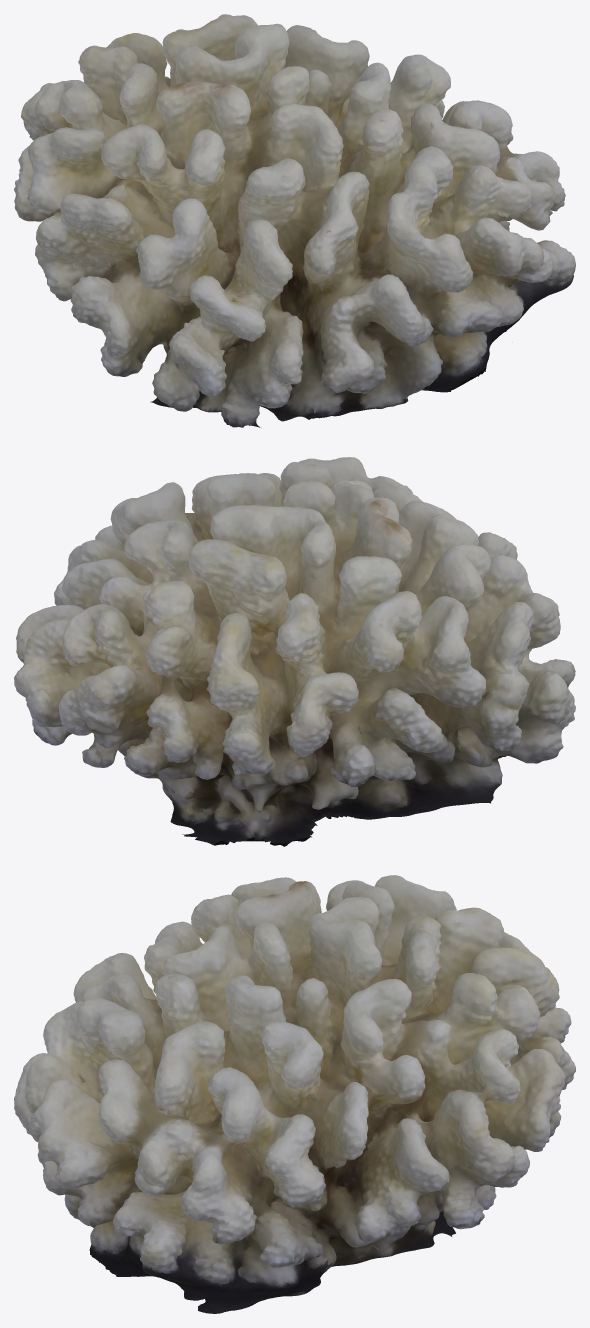
File: coral2.glb
The picture shows the model from 3 angles, top to bottom: view 1: azimuth 30°, elevation 25°; view 2: azimuth 150°, elevation 25°; view 3: azimuth 270°, elevation 25°; orthographic projection. The views are drawn at different scales.
Parts seen in each view (by area): view 1: Object_3, Object_6, Object_5, Object_4, Object_7; view 2: Object_3, Object_6, Object_5, Object_7, Object_4; view 3: Object_4, Object_3, Object_7, Object_5, Object_6.
Boxes of the visible parts, x1,y1,x2,y2 form: Object_3: (14, 14, 473, 427); Object_6: (54, 33, 468, 427); Object_5: (60, 29, 565, 412); Object_4: (354, 46, 575, 408); Object_7: (176, 29, 463, 172); Object_3: (140, 458, 531, 786); Object_6: (158, 472, 573, 841); Object_5: (60, 485, 575, 846); Object_7: (58, 474, 236, 842); Object_4: (14, 457, 411, 745); Object_4: (14, 998, 529, 1313); Object_3: (14, 875, 544, 1213); Object_7: (160, 963, 562, 1280); Object_5: (56, 904, 574, 1308); Object_6: (153, 881, 575, 1194).
Bounding box in the file's own units: 21.98 × 12.83 × 21.78.
Materials: 1 (1 with a texture image).
